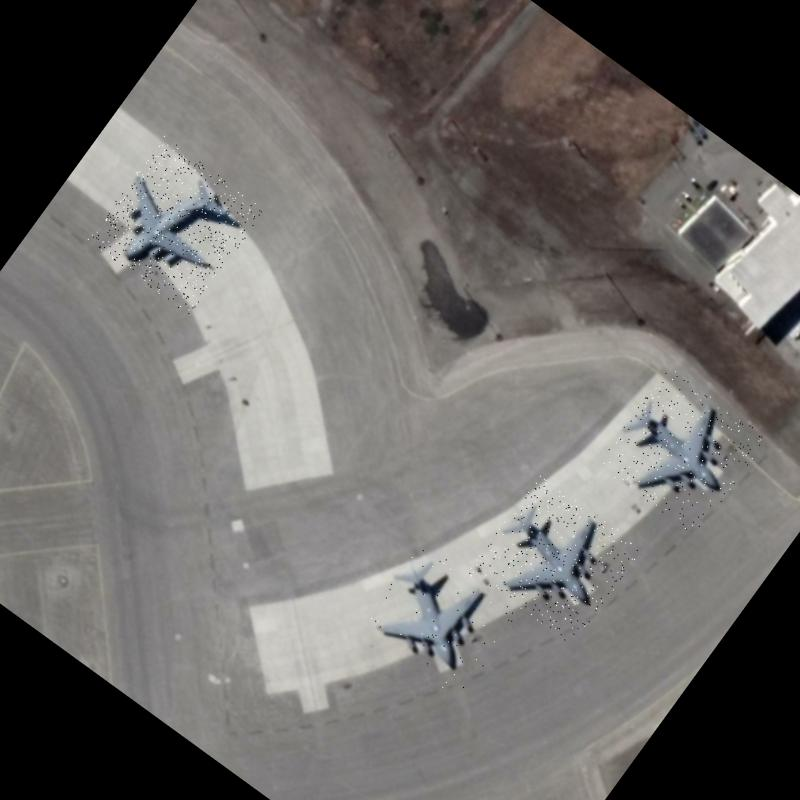A3: (86, 135, 266, 316), (468, 472, 643, 646), (351, 534, 524, 702), (596, 366, 766, 536)
